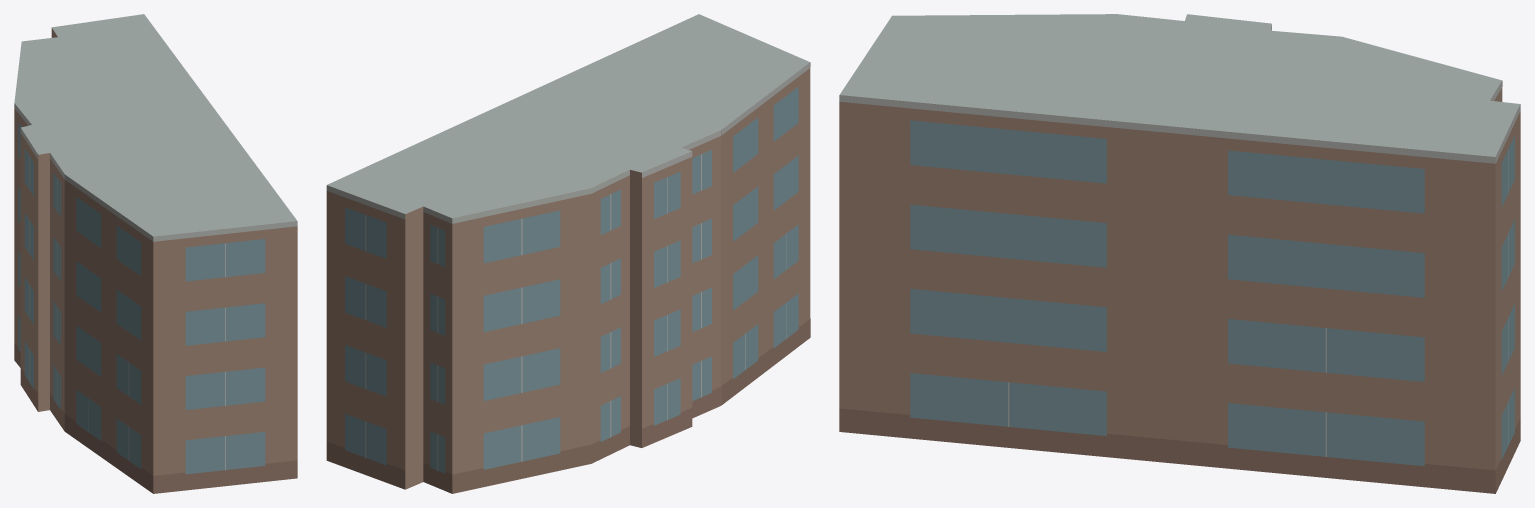
File: survey-upis-32777146.glb
3 views of the same model, side by side, from view 1: azimuth 30°, elevation 25°; view 2: azimuth 150°, elevation 25°; view 3: azimuth 270°, elevation 25° (orthographic). The views are drawn at different scales.
Parts seen in each view (by area): view 1: survey-upis-32777146.tmp; view 2: survey-upis-32777146.tmp; view 3: survey-upis-32777146.tmp.
Boxes of the visible parts, left/top/right/bottom form: survey-upis-32777146.tmp: left=14, top=14, right=297, bottom=493; survey-upis-32777146.tmp: left=326, top=14, right=810, bottom=493; survey-upis-32777146.tmp: left=839, top=14, right=1520, bottom=493.
Size of the model in its own units: 11.12 by 12.2 by 22.37.
